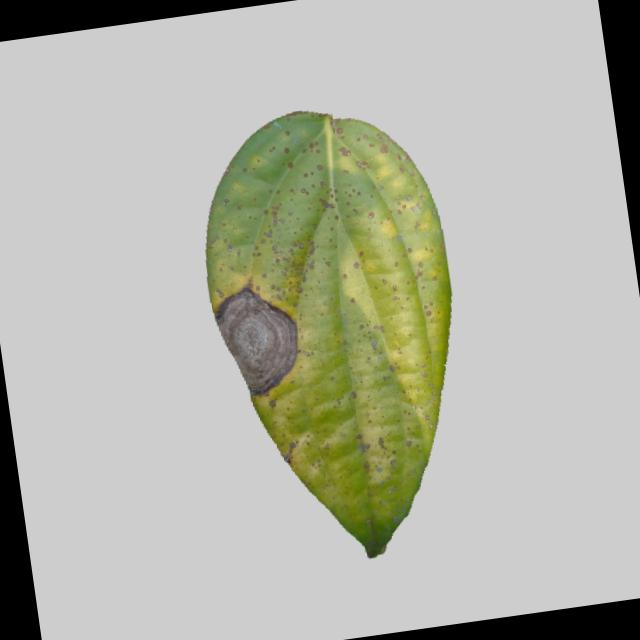leaf-blight: (176, 93, 494, 574)
